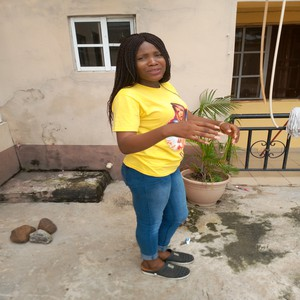Fulokoja_female_student: (117, 32, 199, 274)
